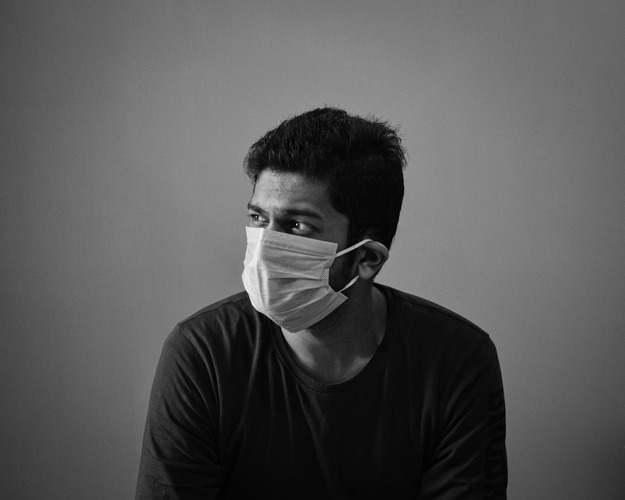with_mask: (242, 191, 349, 326)
